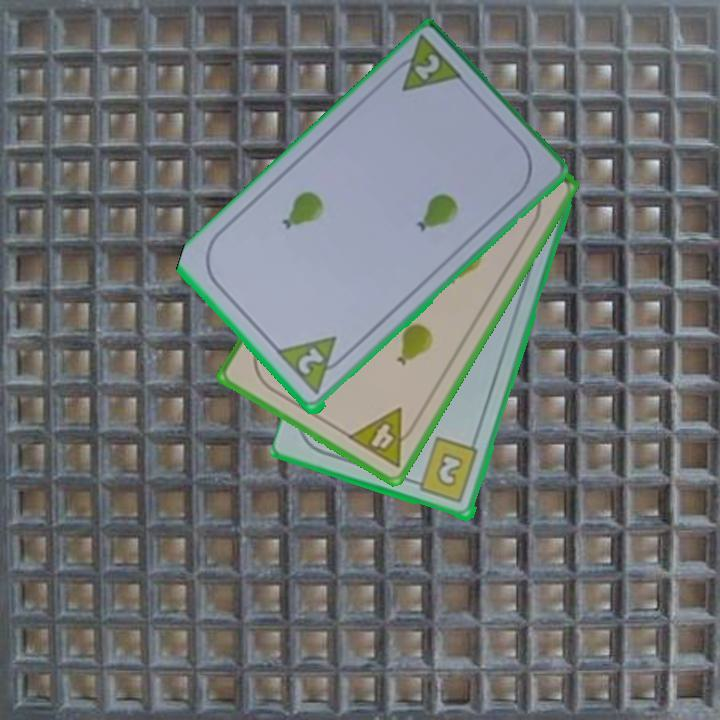2b: (408, 434, 482, 506)
2p: (384, 33, 467, 96), (274, 333, 353, 399)
4p: (344, 404, 423, 471)
